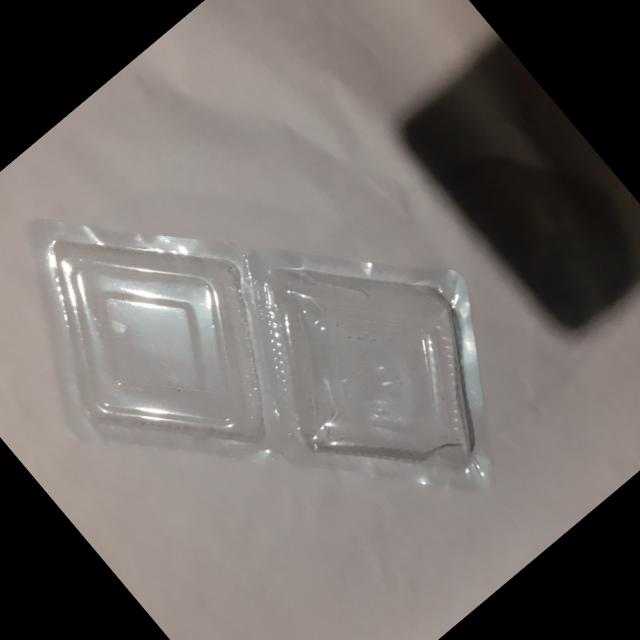KemasanPlastik: (0, 33, 582, 640)
